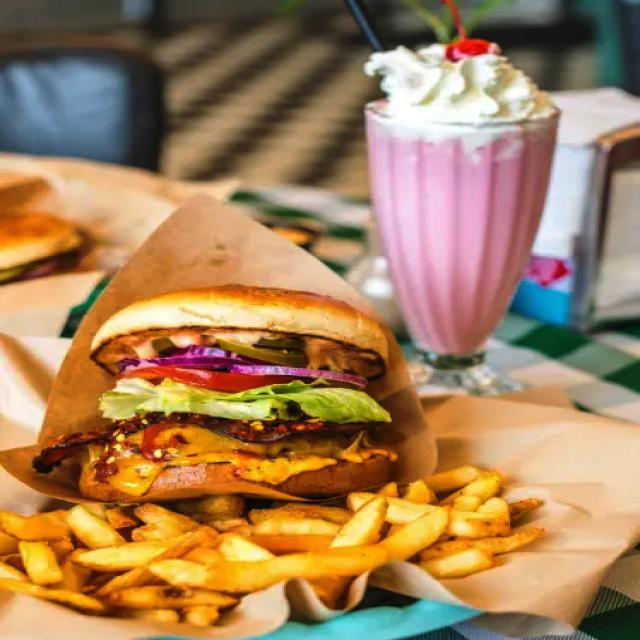burger: (33, 282, 395, 501)
drink: (359, 34, 557, 363)
french fries: (4, 499, 525, 623), (402, 463, 537, 583)
